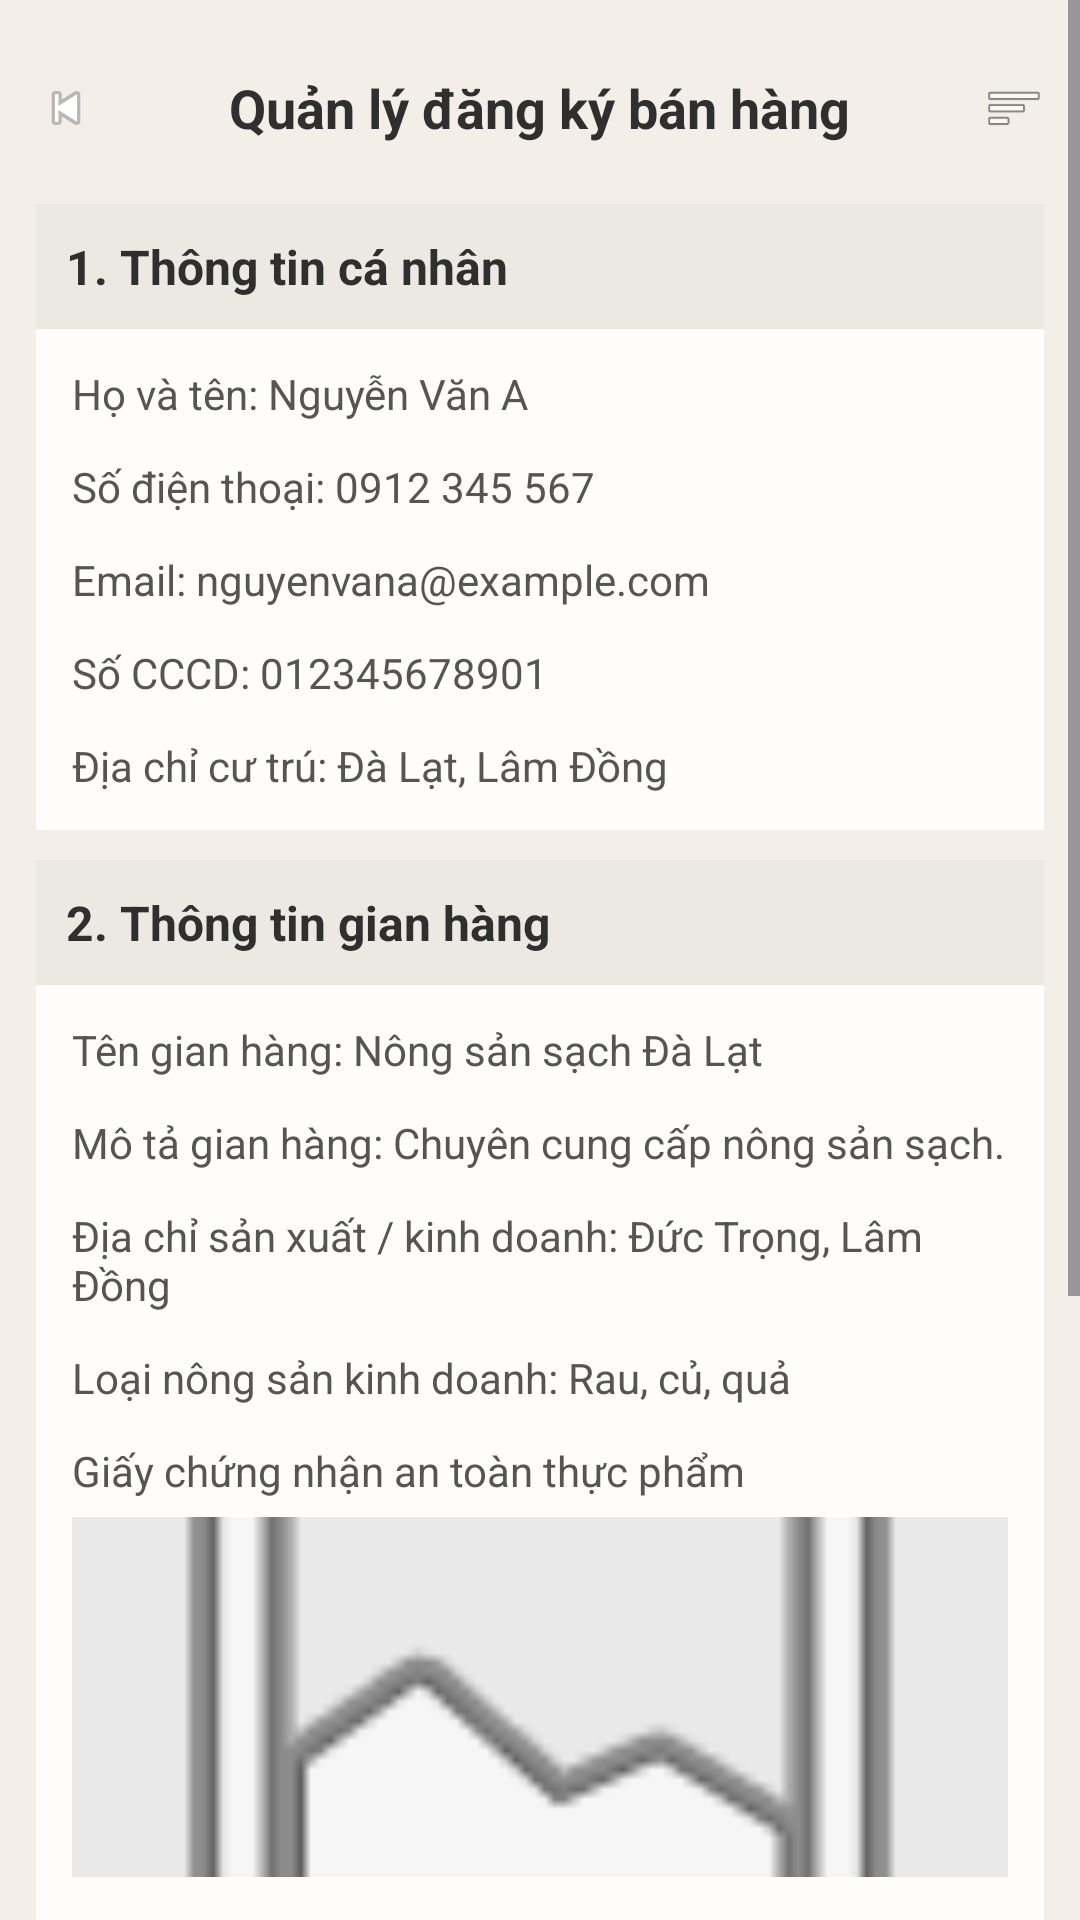

Icons on this 1080x1920 Android screen, each with its box as (x1, y1, x2, y2):
previous: (51, 91, 81, 125)
sort by size: (988, 91, 1040, 125)
